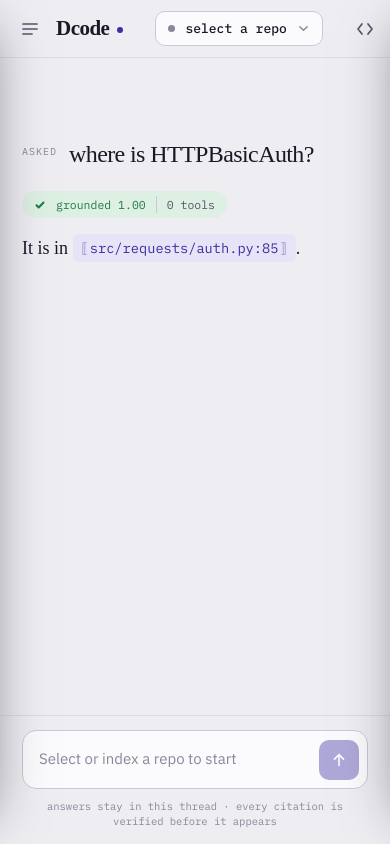
Test: workbench drawer scrim › mobile: a citation click opens the single scrim
Click the button "⟦ src/requests/auth.py:85 ⟧". click: (184, 248)
box: [72, 234, 296, 262]
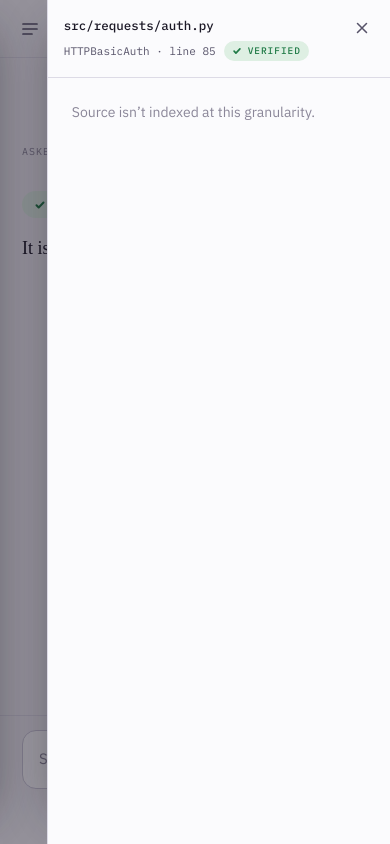
Check: the number of buttons with test id "drawer-scrim" is 1
